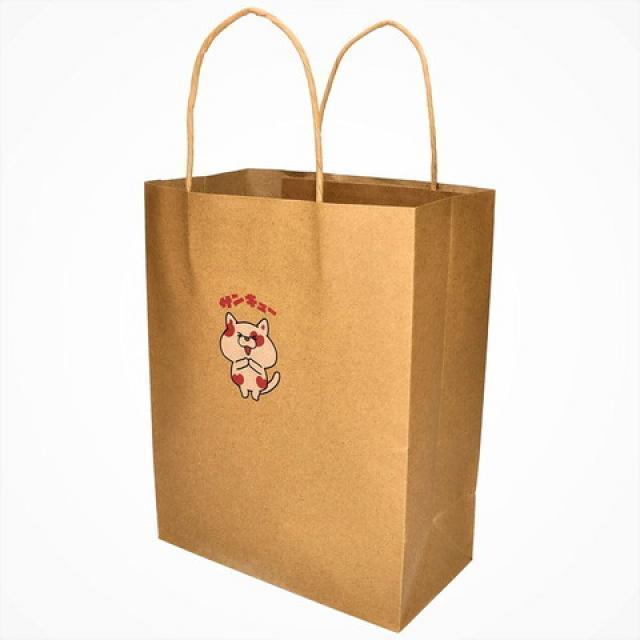Kardus: (143, 6, 496, 632)
